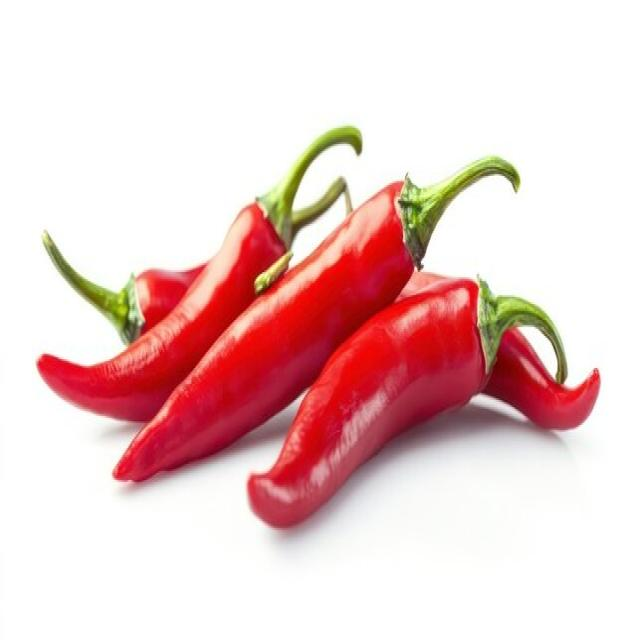Chilli: (110, 151, 520, 484), (35, 123, 362, 423), (245, 270, 600, 530), (40, 226, 211, 346)
